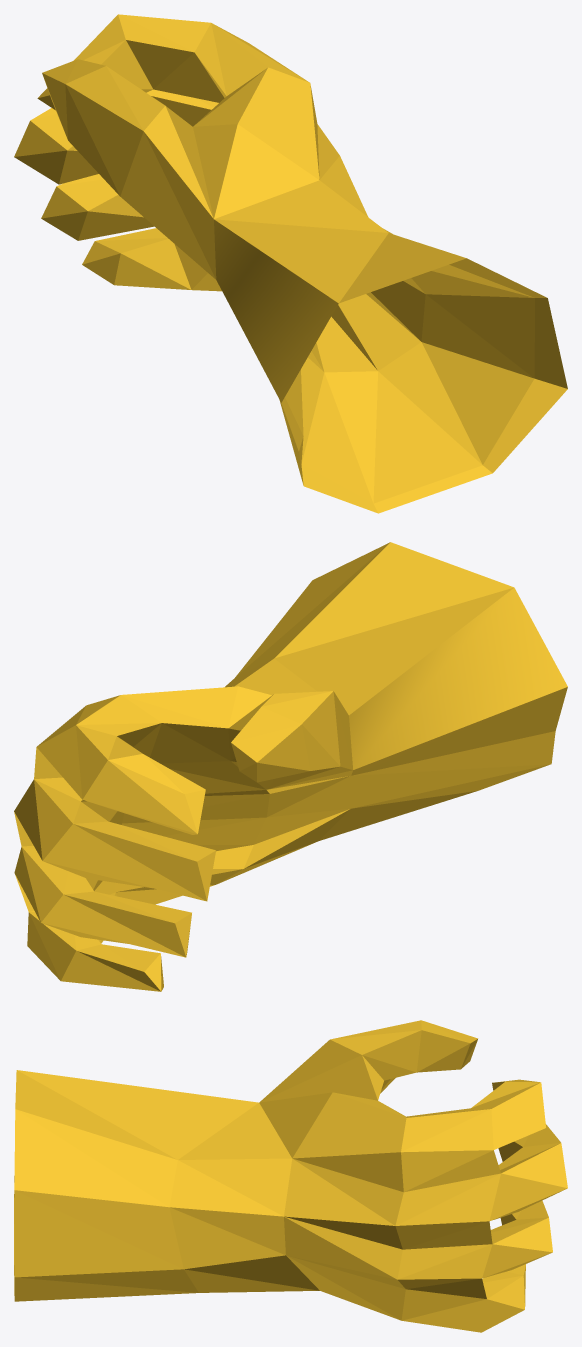
File: CIMDS_001.FBX
3 views of the same model, one above another, from view 1: azimuth 30°, elevation 25°; view 2: azimuth 150°, elevation 25°; view 3: azimuth 270°, elevation 25° (orthographic). The views are drawn at different scales.
Parts seen in each view (by area): view 1: CIMDS_001; view 2: CIMDS_001; view 3: CIMDS_001.
Boxes of the visible parts, x1=… form: CIMDS_001: x1=14, y1=14, x2=567, y2=513; CIMDS_001: x1=14, y1=542, x2=567, y2=991; CIMDS_001: x1=14, y1=1020, x2=567, y2=1332.
Bounding box in the file's own units: 112 × 104 × 224.
1 material, 1 textured.
